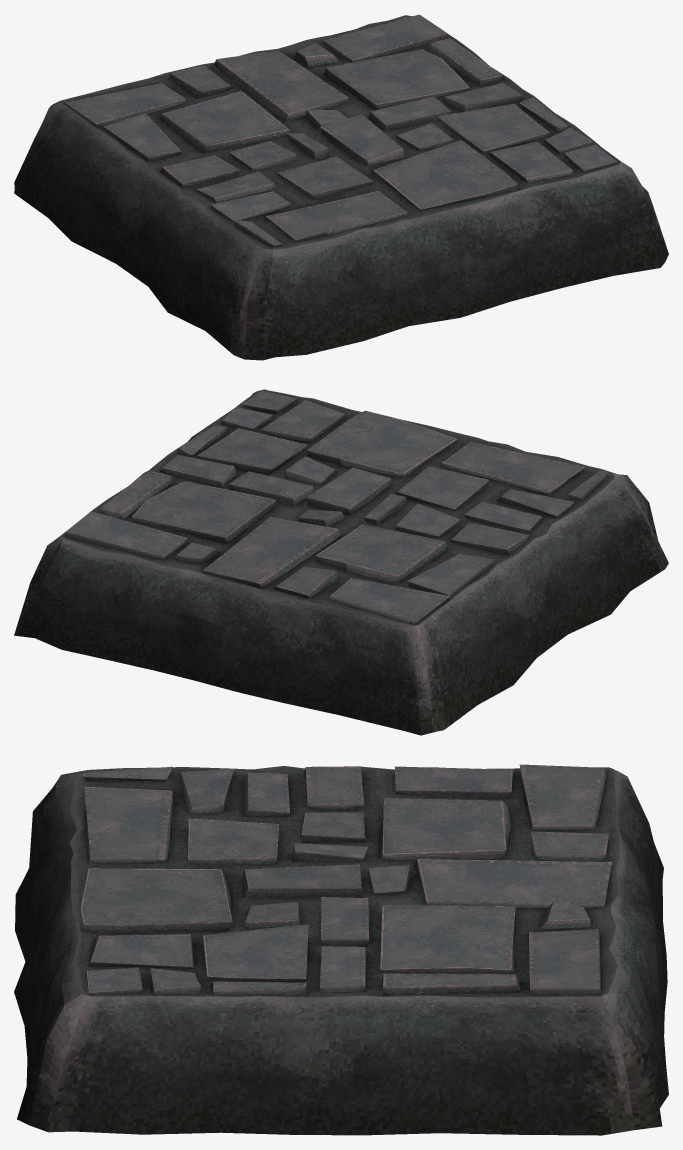
The model's file is StoneGround.glb.
3 renders of one model, top to bottom at view 1: azimuth 30°, elevation 25°; view 2: azimuth 150°, elevation 25°; view 3: azimuth 270°, elevation 25°, orthographic. The views are drawn at different scales.
Visible parts, largest first — view 1: Stone Ground; view 2: Stone Ground; view 3: Stone Ground.
Boxes of the visible parts, x1,y1,x2,y2 form: Stone Ground: [14, 14, 668, 360]; Stone Ground: [14, 389, 668, 735]; Stone Ground: [14, 764, 668, 1135].
Bounding box in the file's own units: 5.12 × 1.08 × 5.08.
1 material, 1 textured.
